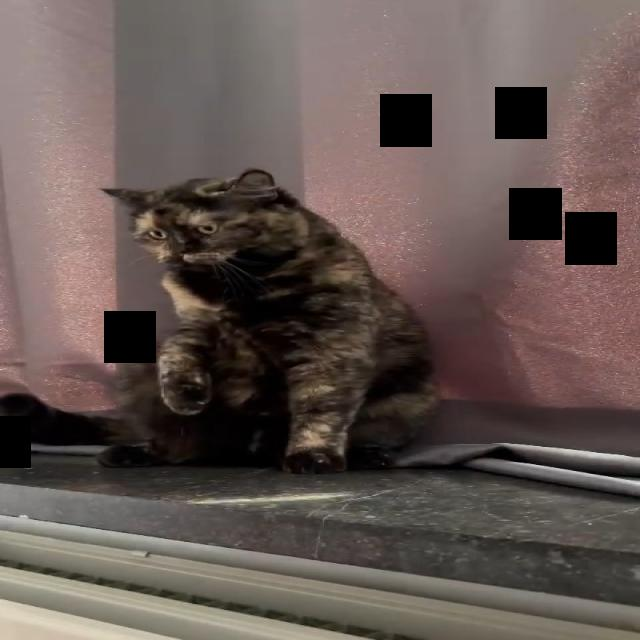authorized: (95, 167, 441, 475)
